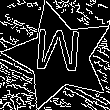M_S: (34, 29, 85, 83)
